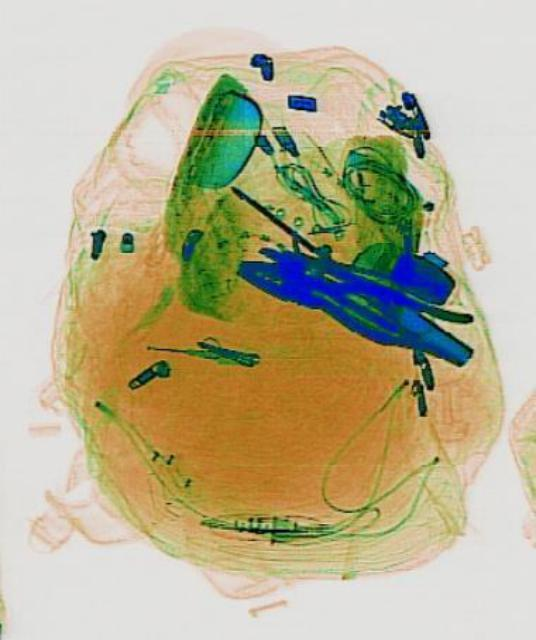Pliers: (228, 237, 478, 369)
